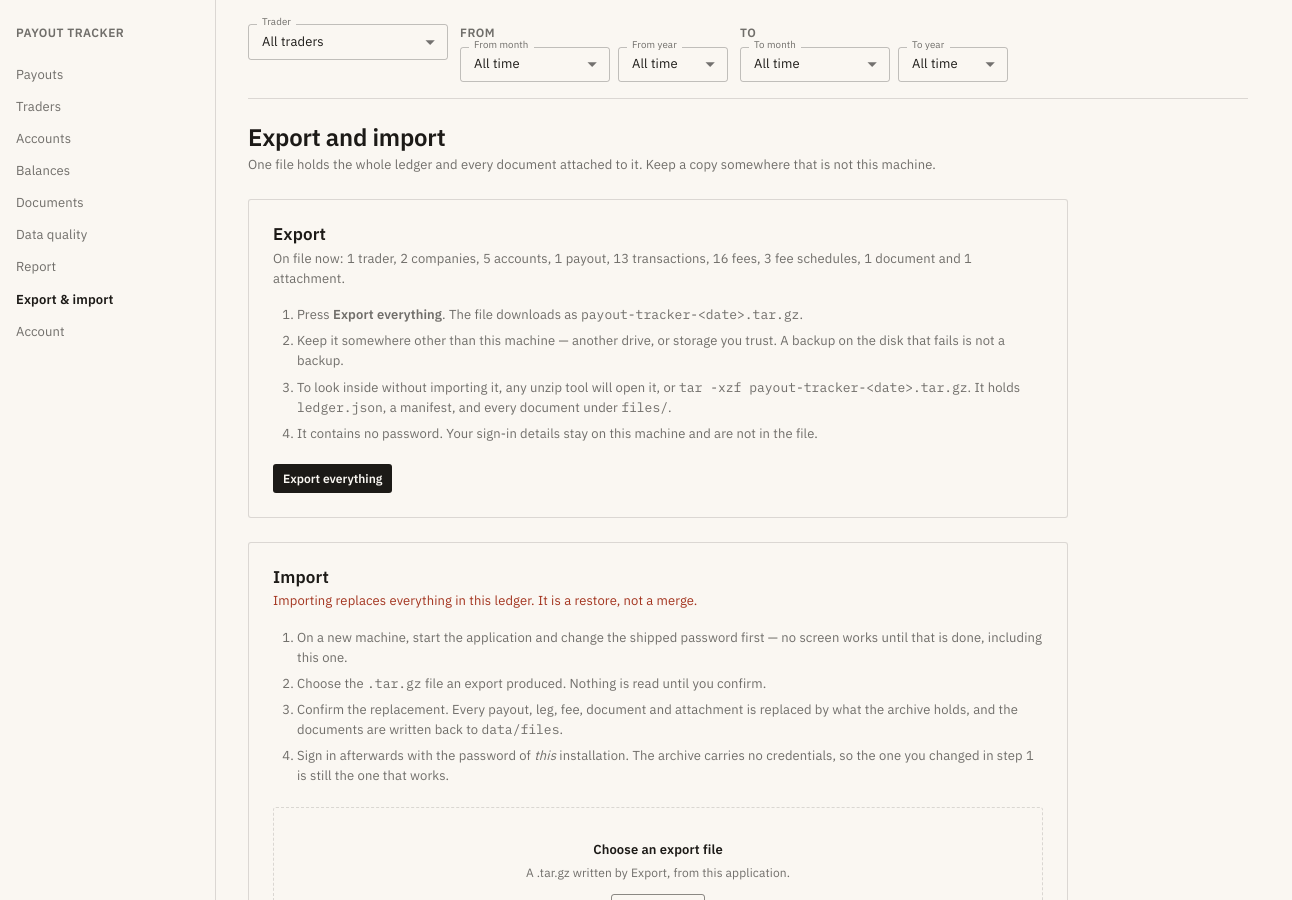
exporting › shows the server reason when an export fails
The image size is (1292, 900).
What coordinates should you click on to do the following:
click the button "Export everything"
I would click on:
 (333, 478)
Its box is top-left (273, 464), bottom-right (392, 493).
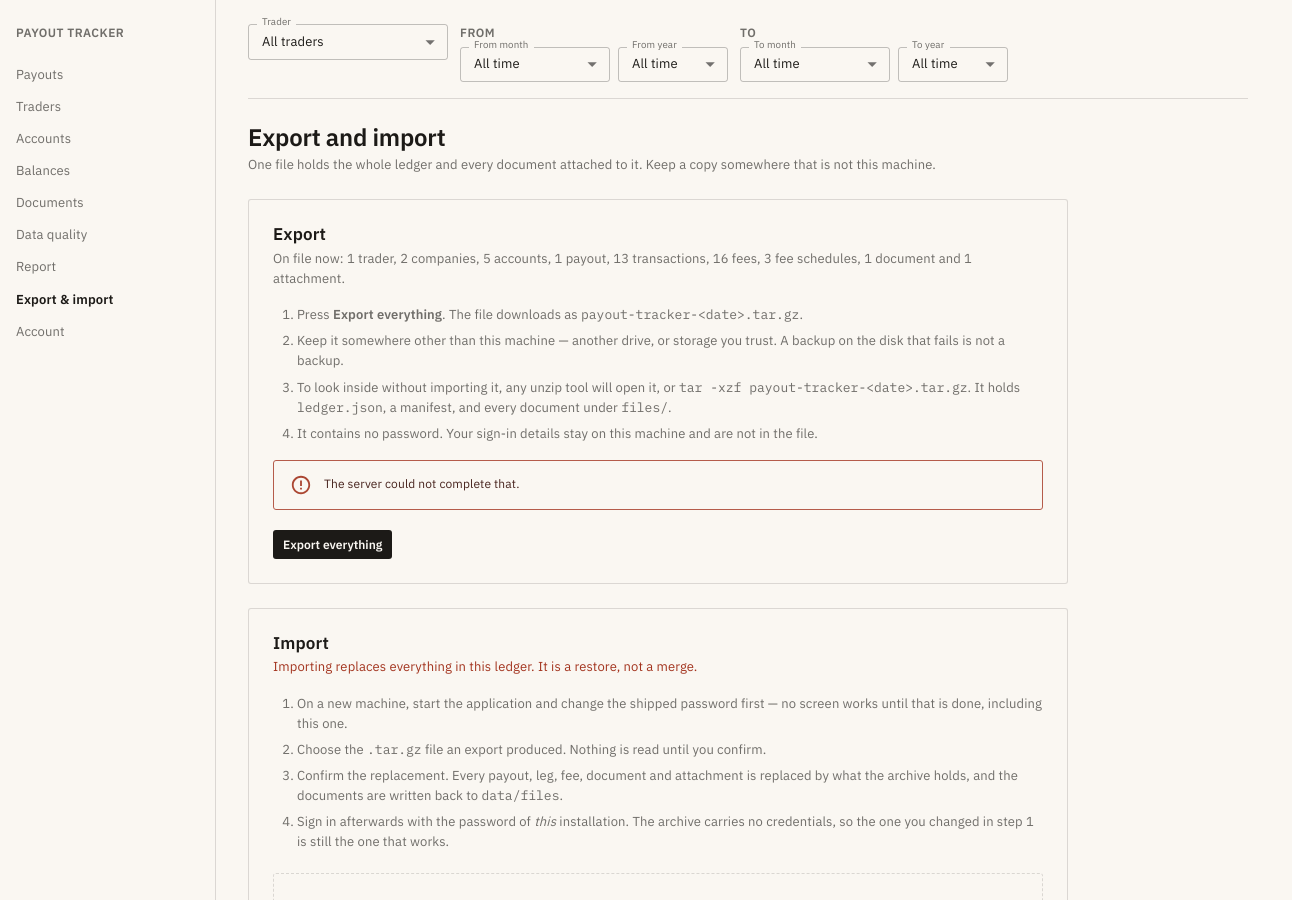
Result: the message "The server could not complete that." is shown at top-left (273, 460), bottom-right (1043, 510)
